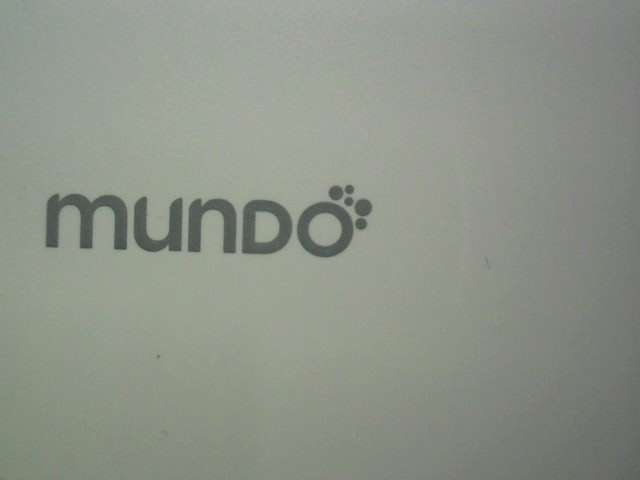BI_MUNDO: (38, 171, 381, 261)
